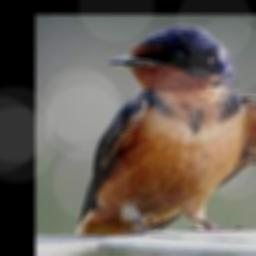Swallow: (75, 23, 256, 236)
